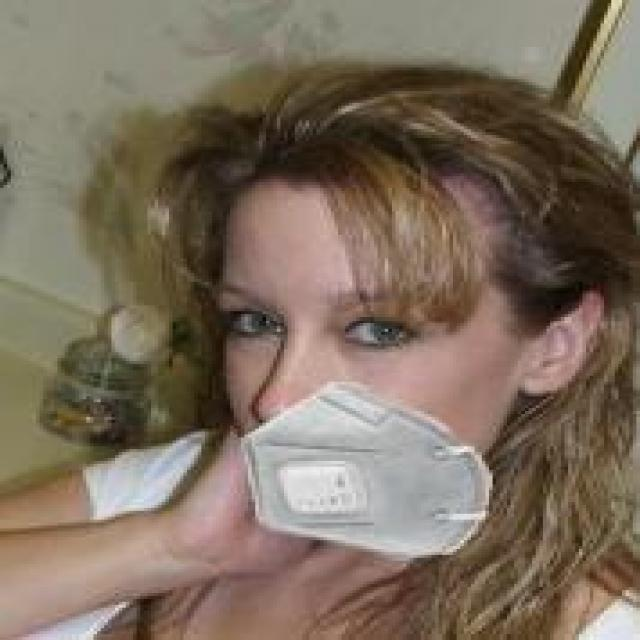mask: (176, 47, 633, 564)
